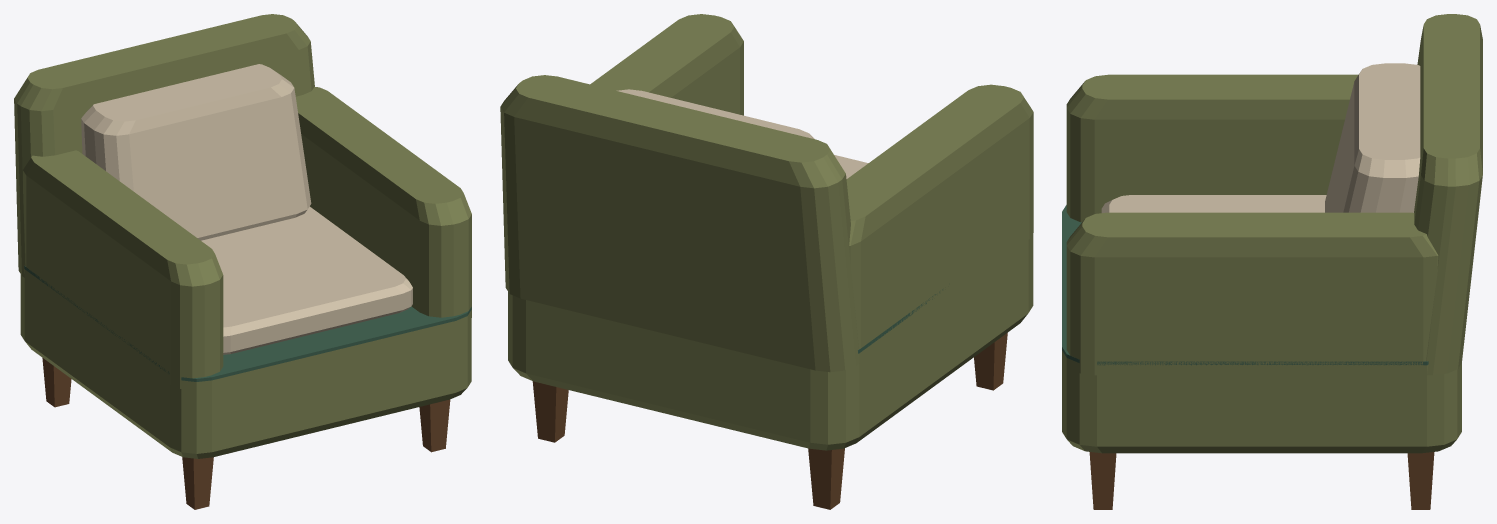
The model's file is FN_Chair_Armchair.obj.
The picture shows the model from 3 angles, left to right: view 1: azimuth 30°, elevation 25°; view 2: azimuth 150°, elevation 25°; view 3: azimuth 270°, elevation 25°; orthographic projection. The views are drawn at different scales.
Visible parts, largest first — view 1: FN_Chair_Armchair; view 2: FN_Chair_Armchair; view 3: FN_Chair_Armchair.
Part boxes in pixels (<box>): FN_Chair_Armchair: <box>14,14,471,509</box>; FN_Chair_Armchair: <box>500,14,1033,509</box>; FN_Chair_Armchair: <box>1062,14,1482,509</box>.
Bounding box in the file's own units: 0.78 × 0.782 × 0.842.
Materials: 1 (1 with a texture image).
